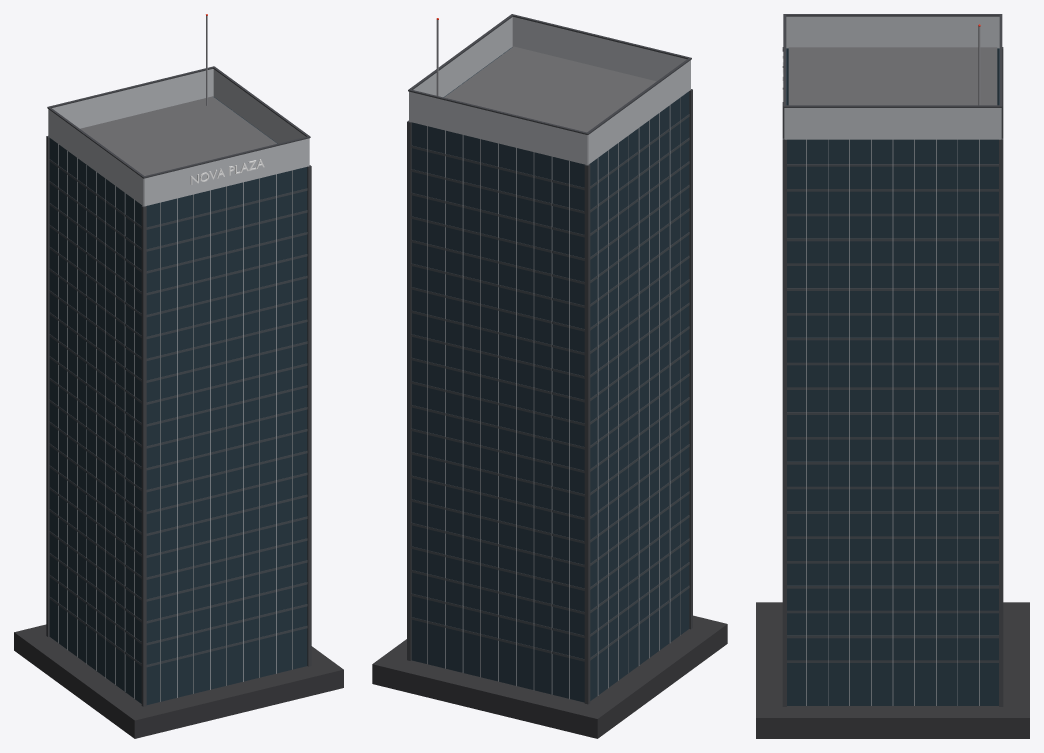
The model's file is bina_15.glb.
The picture shows the model from 3 angles, left to right: view 1: azimuth 30°, elevation 25°; view 2: azimuth 150°, elevation 25°; view 3: azimuth 270°, elevation 25°; orthographic projection. The views are drawn at different scales.
Visible parts, largest first — view 1: P15_Plaza_A_L1.001; view 2: P15_Plaza_A_L1.001; view 3: P15_Plaza_A_L1.001.
Part boxes in pixels (x1,y1,x2,y2): P15_Plaza_A_L1.001: (14, 14, 343, 738); P15_Plaza_A_L1.001: (372, 14, 727, 738); P15_Plaza_A_L1.001: (756, 14, 1029, 738).
Size of the model in its own units: 38 by 106 by 38.
